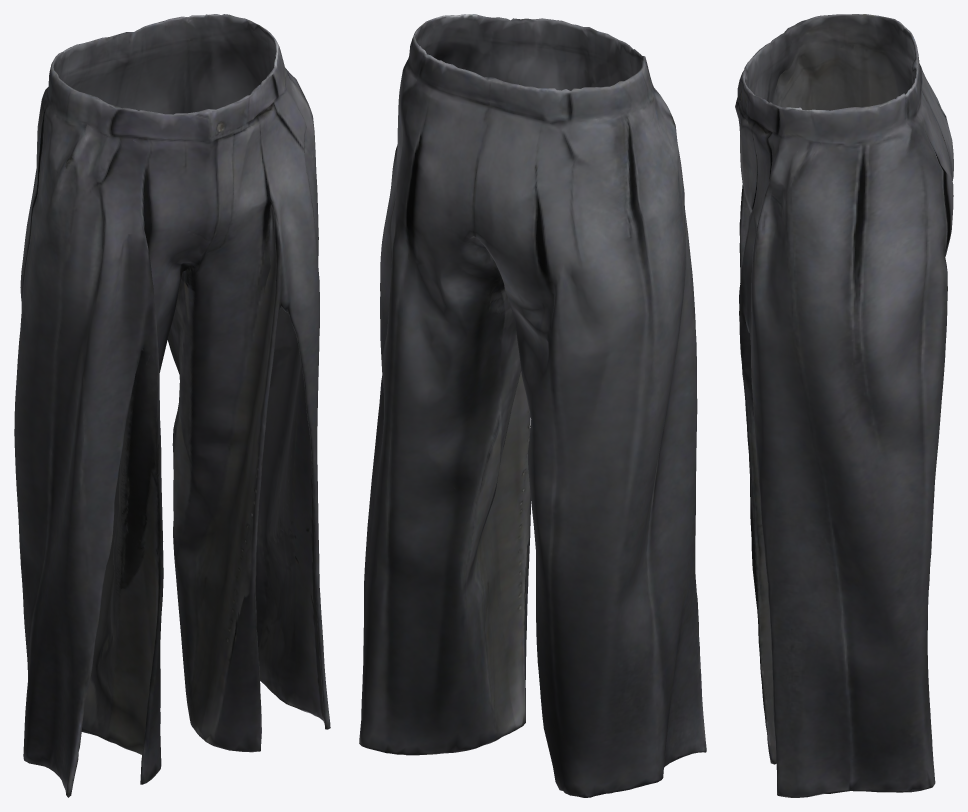
The model's file is modelo.glb.
The picture shows the model from 3 angles, left to right: view 1: azimuth 30°, elevation 25°; view 2: azimuth 150°, elevation 25°; view 3: azimuth 270°, elevation 25°; orthographic projection. The views are drawn at different scales.
Size of the model in its own units: 0.8353 by 2 by 0.5829.
1 material, 1 textured.
